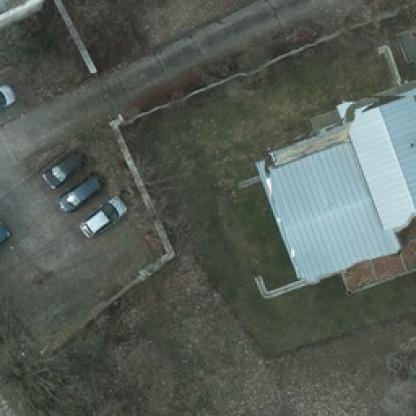car: (80, 197, 126, 238), (60, 174, 104, 210), (39, 153, 85, 187), (0, 81, 15, 125), (0, 219, 8, 270)
